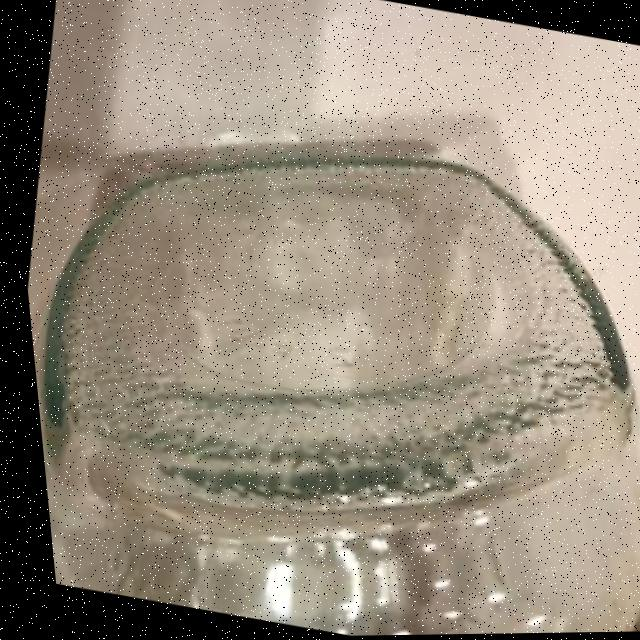glass: (7, 80, 640, 640)
